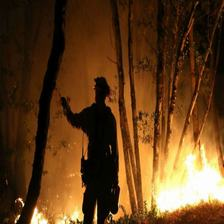fire: (130, 137, 223, 214), (9, 195, 80, 221)
